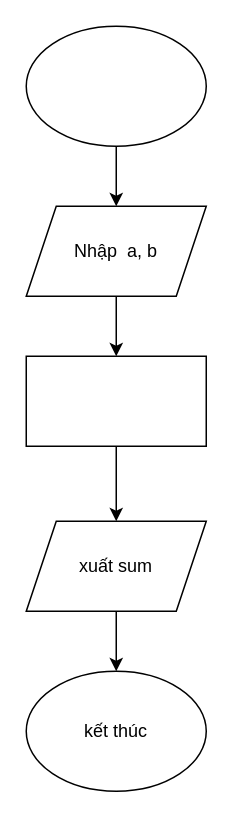
This 233x818 diagram has some shape labels left out. Each missing label, with the centre of its shape:
"Bắt đầu" belongs at point 115,85.
"sum = a + b" belongs at point 115,400.
